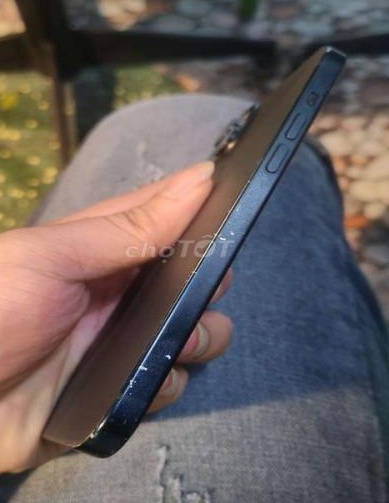scratch: (85, 350, 196, 442), (188, 195, 249, 280)
